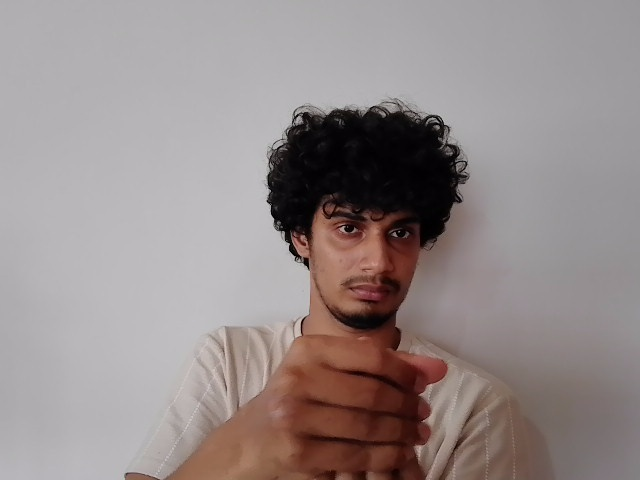with: (268, 336, 456, 476)
